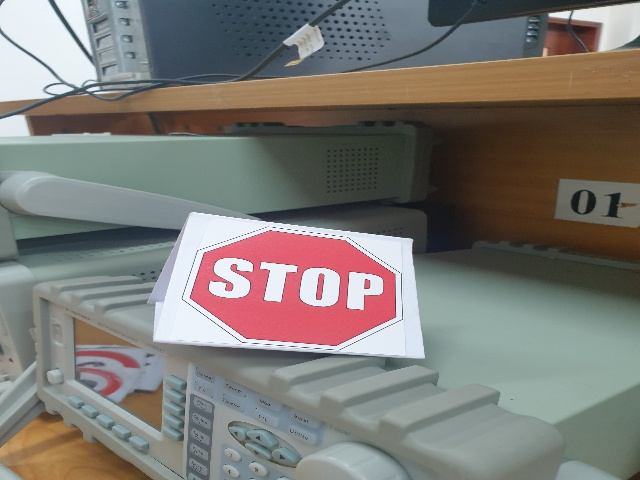Stop: (184, 225, 405, 348)
